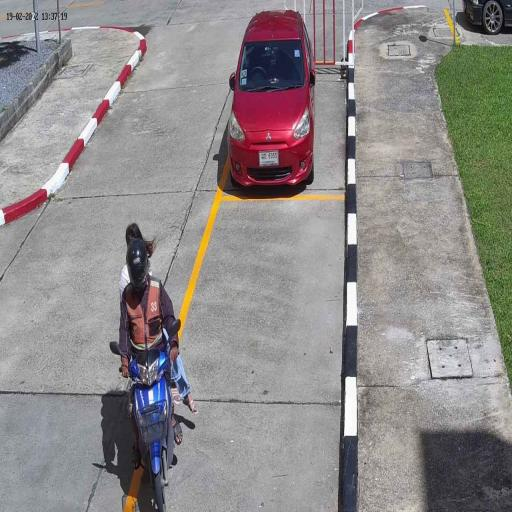car: (226, 12, 316, 190)
motorcycle: (126, 344, 177, 512)
